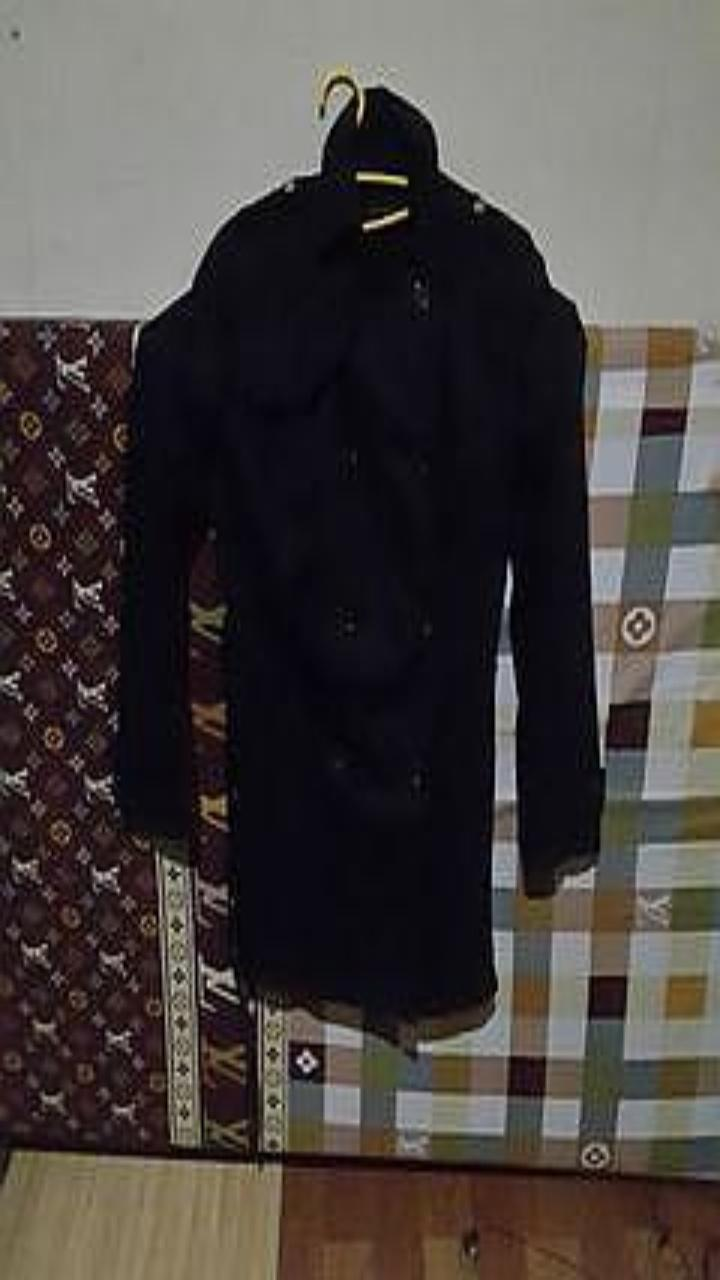Coat: (113, 86, 604, 1018)
